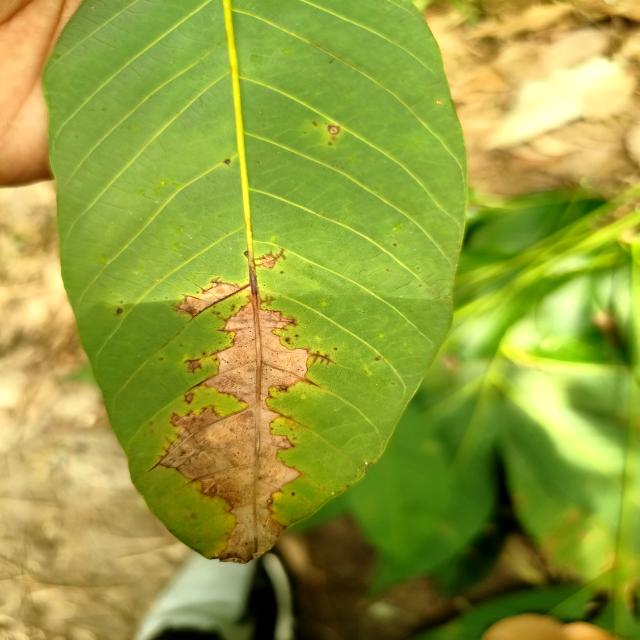Colletotrichum: (327, 126, 339, 134), (267, 499, 273, 503), (292, 492, 295, 495)
Corynespora: (188, 284, 250, 322), (255, 248, 288, 269), (309, 351, 336, 366), (186, 379, 208, 392), (148, 457, 165, 473)
Leaf-Blight: (160, 295, 311, 564)
